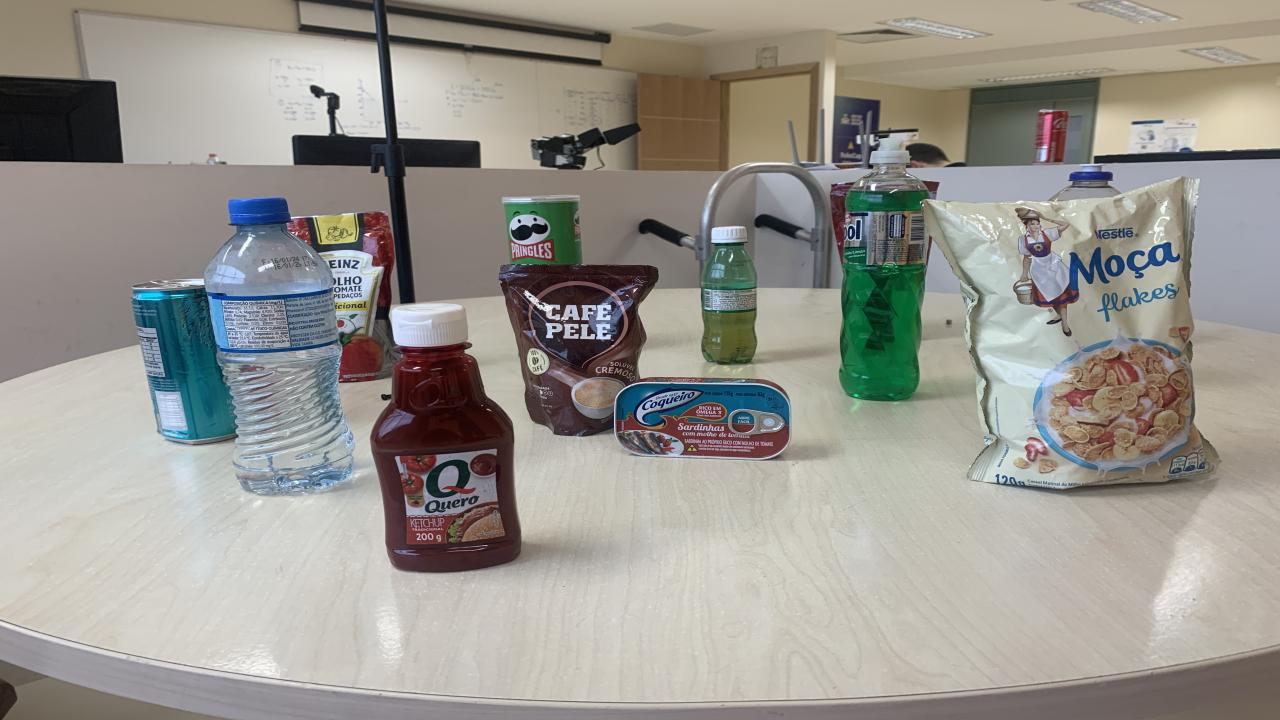Coffee-Pantry_Items: (500, 264, 658, 435)
Detergent-Cleanup_Items: (840, 142, 930, 401), (1050, 165, 1120, 201)
Flakes-Snacks: (922, 180, 1218, 488)
Guarana-Drinks: (700, 227, 758, 364)
Ketchup-Pantry_Items: (370, 304, 520, 572)
Pringles-Snacks: (502, 195, 582, 264)
Tea-Drinks: (132, 279, 235, 444)
Tomato_Sauce-Pantry_Items: (288, 212, 395, 382)
Tuna_Can-Pantry_Items: (612, 377, 792, 459)
Water_Bottle-Drinks: (205, 197, 355, 495)
